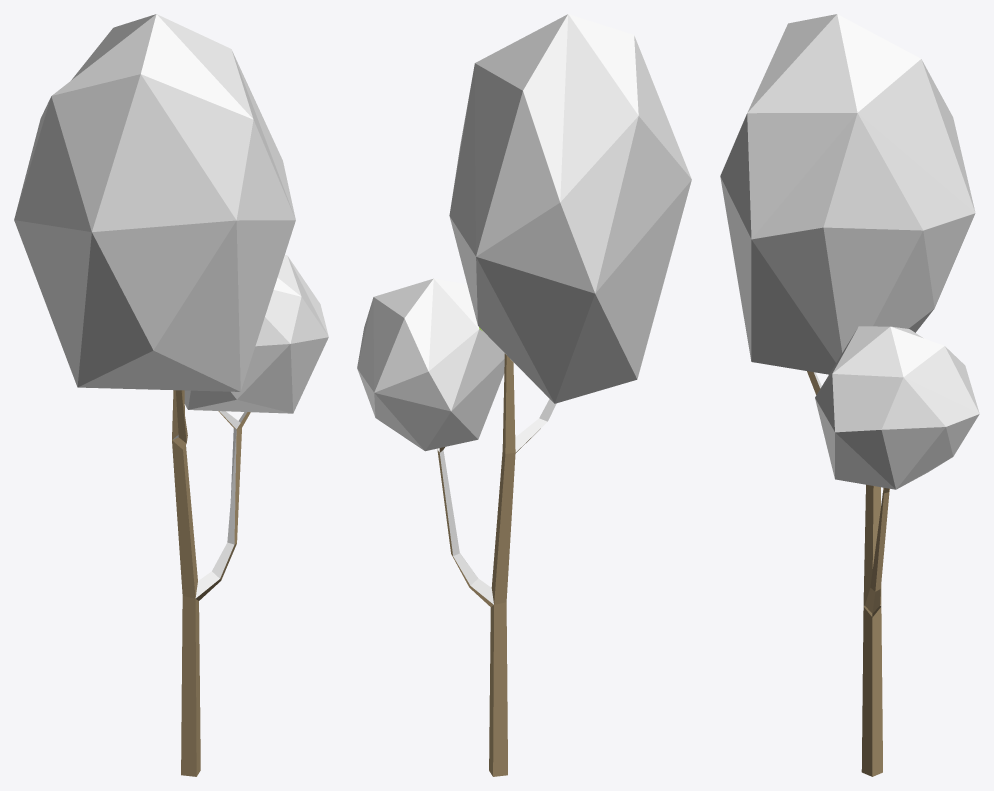
Rendered from Random_Tree_s_Snow_01_LOD.fbx.
3 renders of one model, left to right at view 1: azimuth 30°, elevation 25°; view 2: azimuth 150°, elevation 25°; view 3: azimuth 270°, elevation 25°, orthographic. The views are drawn at different scales.
Parts seen in each view (by area): view 1: Random_Tree_s_Snow_01_LOD0; view 2: Random_Tree_s_Snow_01_LOD0; view 3: Random_Tree_s_Snow_01_LOD0.
Part boxes in pixels (x1,y1,x2,y2): Random_Tree_s_Snow_01_LOD0: [14, 14, 328, 776]; Random_Tree_s_Snow_01_LOD0: [357, 14, 691, 776]; Random_Tree_s_Snow_01_LOD0: [720, 14, 979, 776].
Size of what is drawn, in the model's own units: 161 by 424 by 136.
